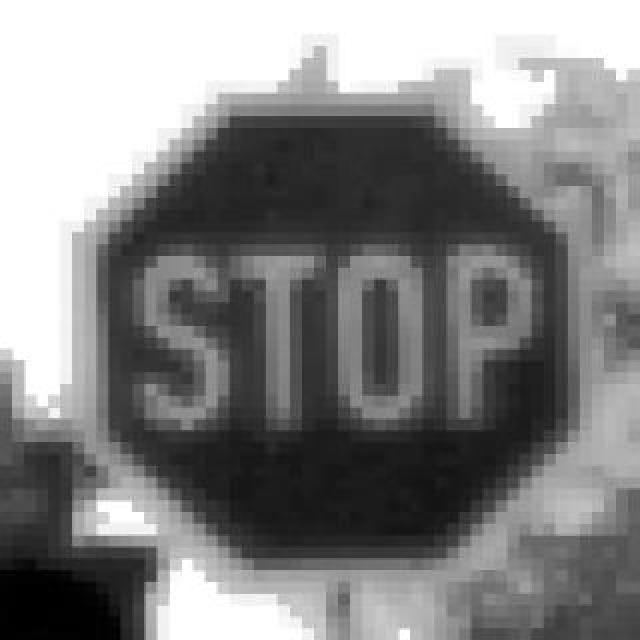stop: (72, 70, 580, 594)
